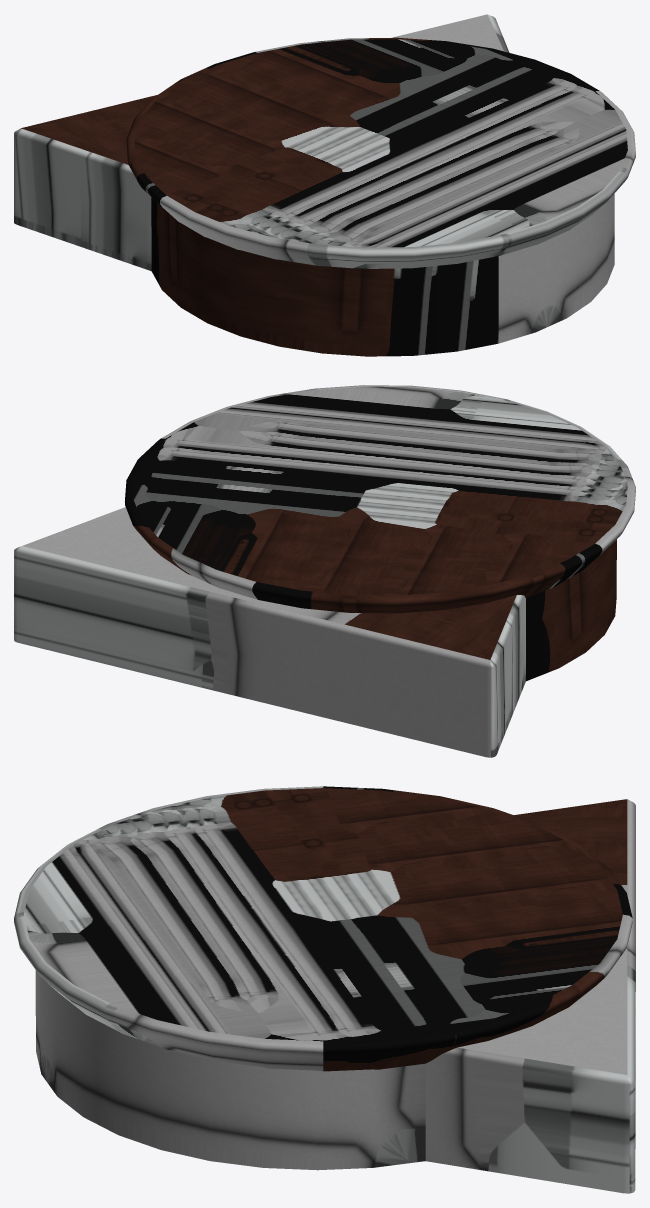
The model's file is central pocket blocker.fbx.
3 views of the same model, one above another, from view 1: azimuth 30°, elevation 25°; view 2: azimuth 150°, elevation 25°; view 3: azimuth 270°, elevation 25° (orthographic). The views are drawn at different scales.
Visible parts, largest first — view 1: 4ball_fillers.001; view 2: 4ball_fillers.001; view 3: 4ball_fillers.001.
Boxes of the visible parts, x1,y1,x2,y2 form: 4ball_fillers.001: (14, 14, 635, 356); 4ball_fillers.001: (14, 385, 635, 757); 4ball_fillers.001: (14, 786, 635, 1193).
Bounding box in the file's own units: 15.54 × 3.52 × 14.41.
